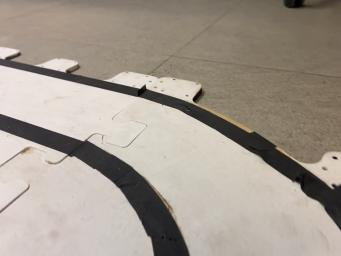street: (0, 60, 341, 255), (0, 60, 341, 255), (0, 60, 341, 255), (0, 60, 341, 255), (0, 60, 341, 255), (0, 60, 341, 255)
